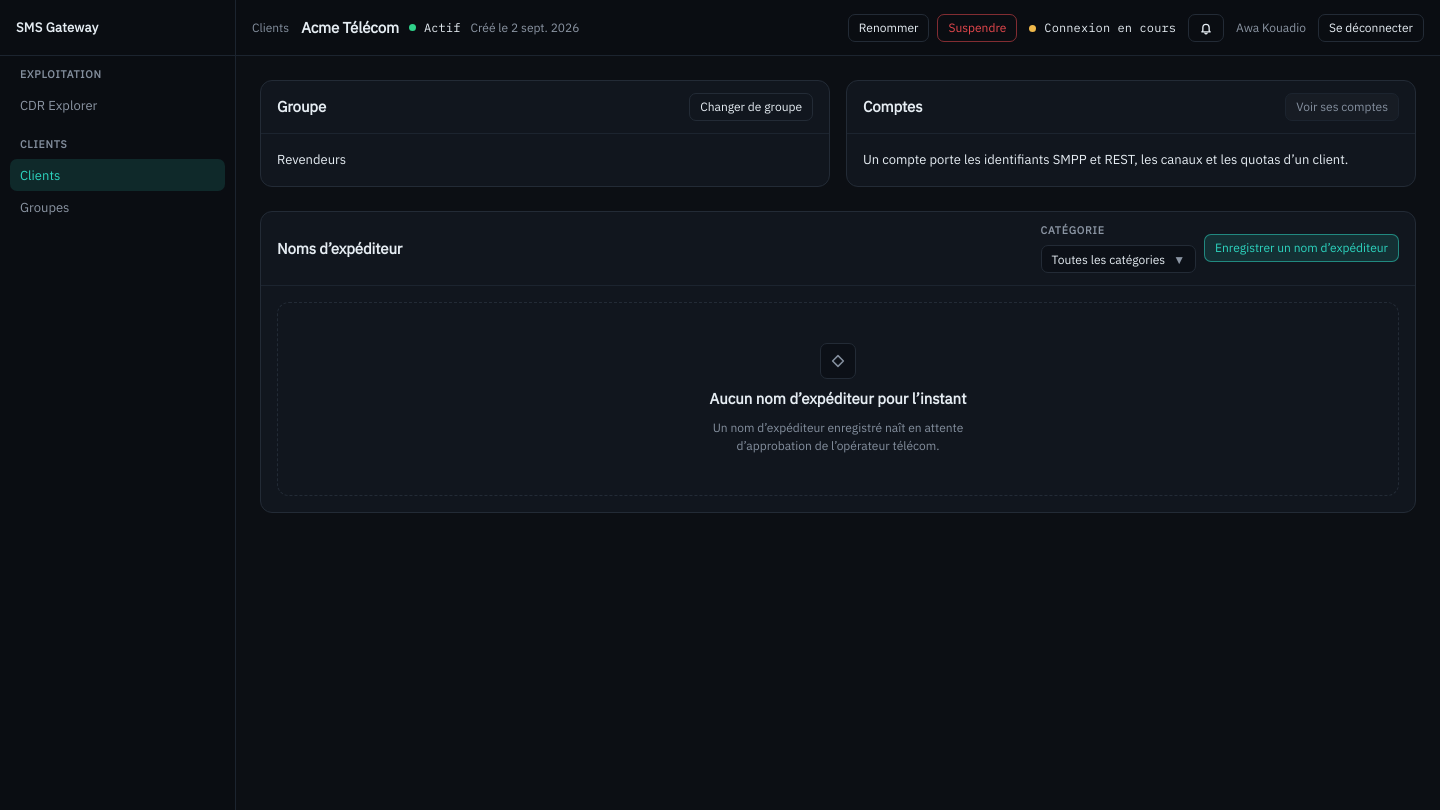
Test: the customer screen › counts the accounts a suspension takes down before it leaves, then shows the customer suspended
Click the button "Suspendre" at (977, 28), box left=937, top=14, right=1017, bottom=42
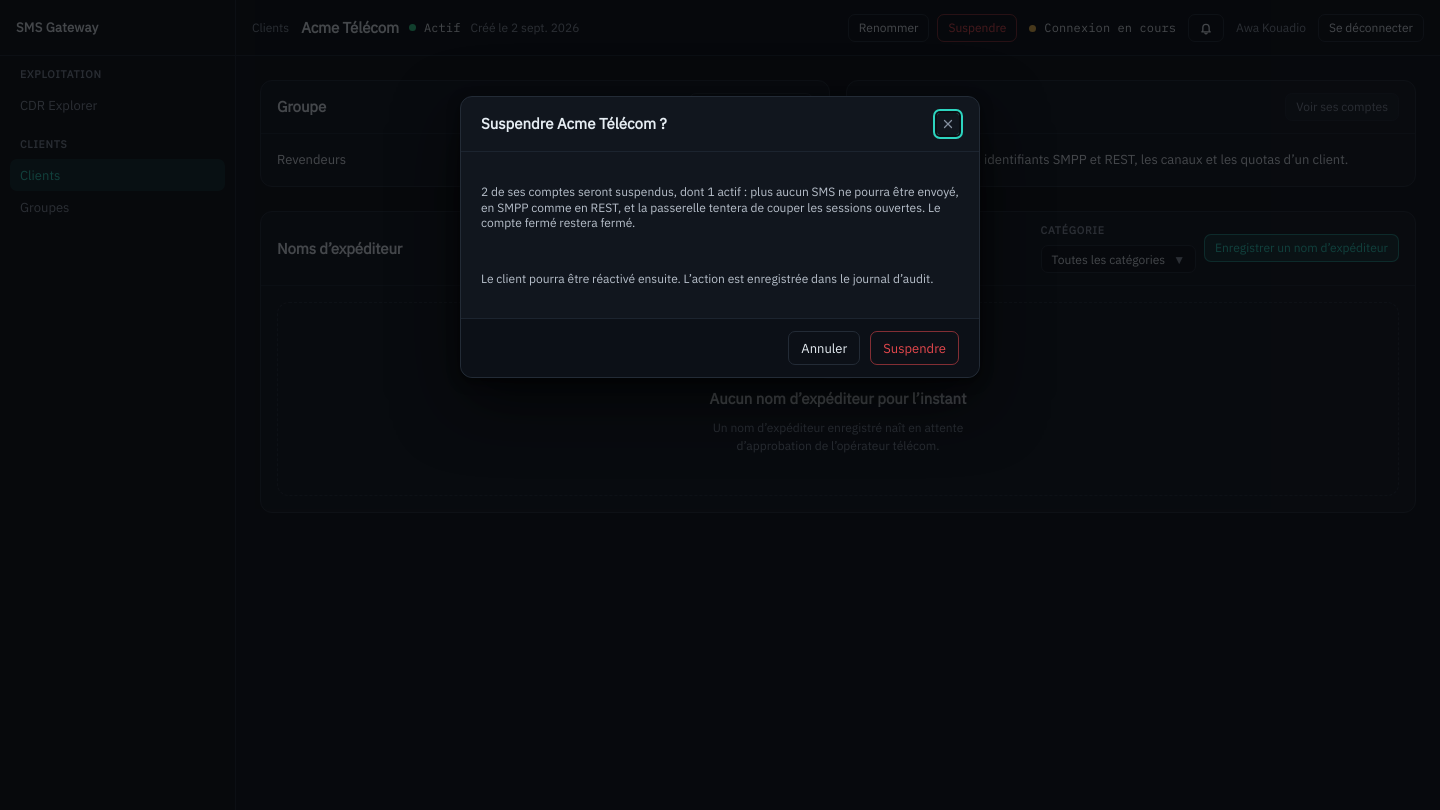
Click the button "Suspendre" at (915, 348), box left=870, top=331, right=959, bottom=365
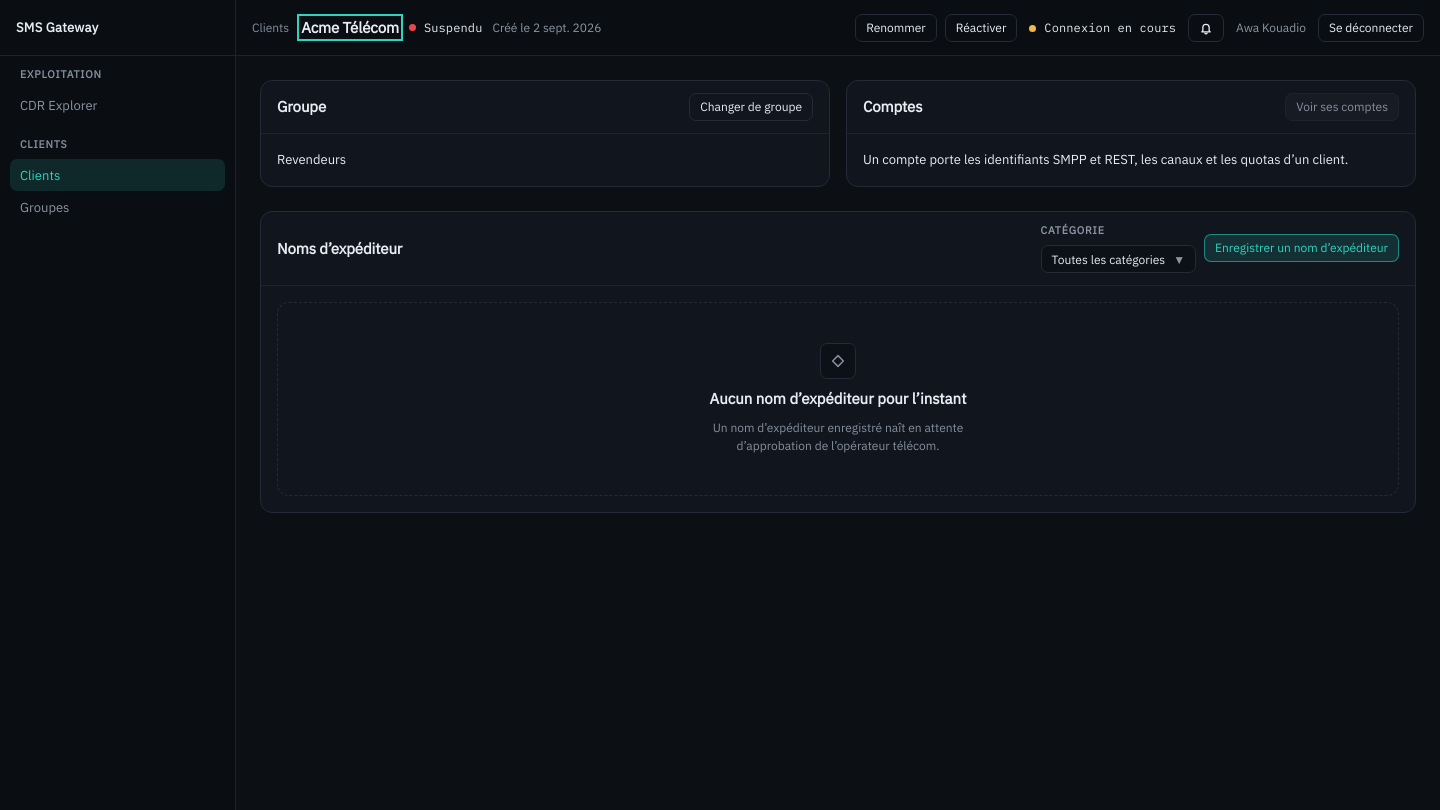
expect the button "Réactiver" is shown: met, box left=945, top=14, right=1017, bottom=42
